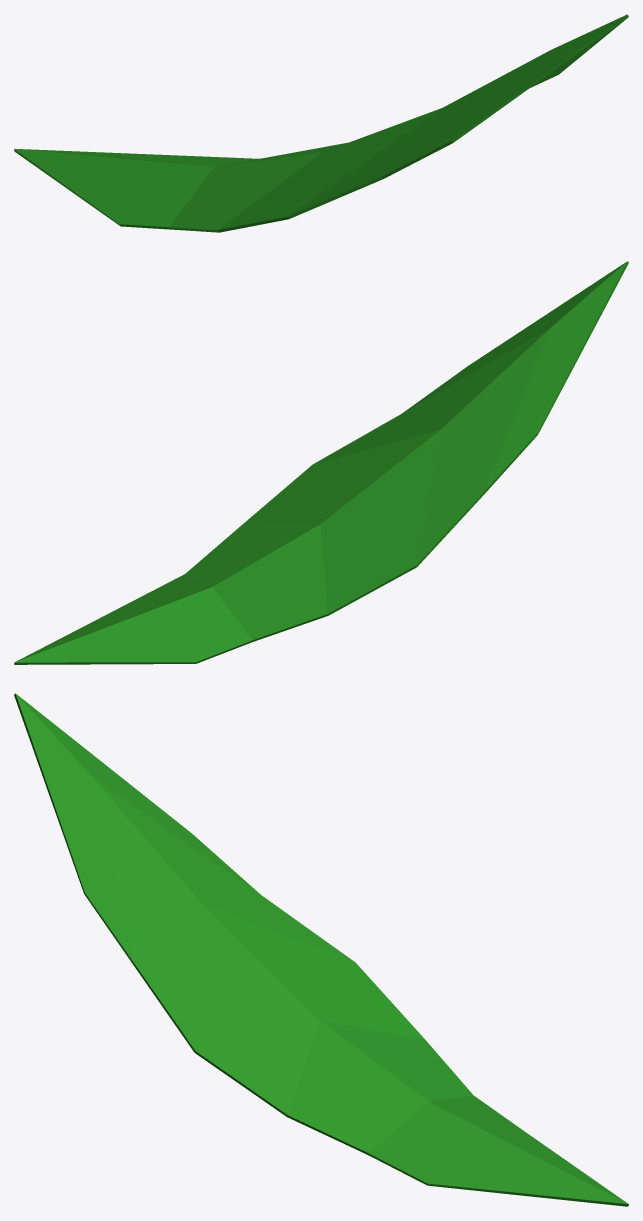
The model's file is oregano4.fbx.
The picture shows the model from 3 angles, top to bottom: view 1: azimuth 90°, elevation 25°; view 2: azimuth 150°, elevation 25°; view 3: azimuth 270°, elevation 25°; orthographic projection. The views are drawn at different scales.
Parts seen in each view (by area): view 1: GRAS.005; view 2: GRAS.005; view 3: GRAS.005.
Boxes of the visible parts, x1,y1,x2,y2 form: GRAS.005: [14, 14, 628, 232]; GRAS.005: [14, 261, 628, 664]; GRAS.005: [14, 693, 628, 1206].
Bounding box in the file's own units: 2.45 × 1.98 × 3.37.
